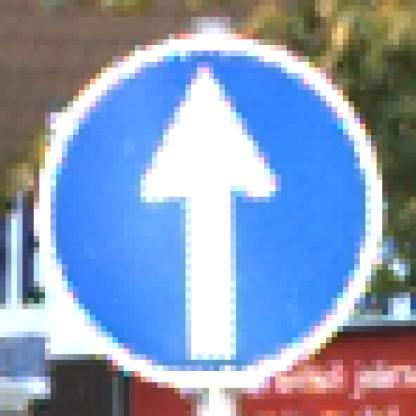AheadOnly: (35, 35, 383, 383)
